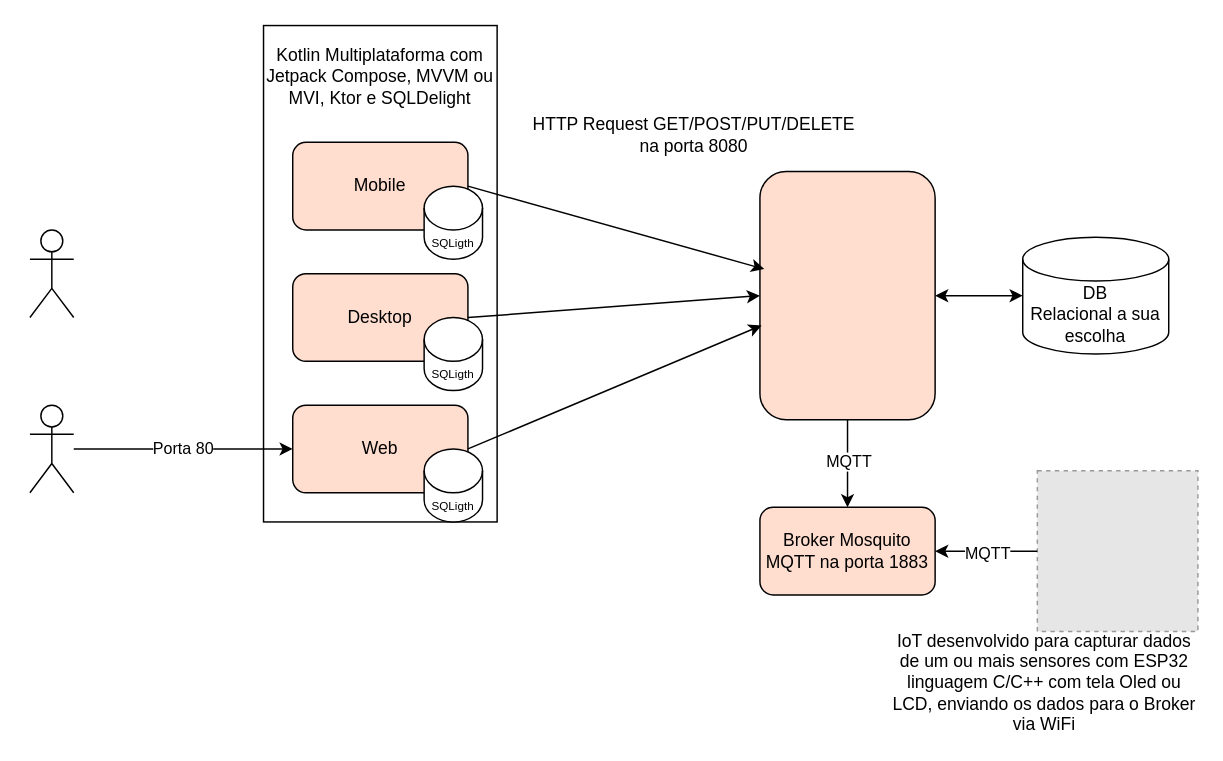
Image size: 1223x761. Some labels were removed from this diagram. Grey dashed boxes stand in for pictures. The box of each missing label's shape, as (x1, y1, x2, y2) in pixels:
Backend Kotlin com Spring Boot, JwT e Swagger: (758, 170, 935, 420)
Perfil 1: (28, 228, 74, 318)
Perfil 2: (28, 404, 74, 493)
